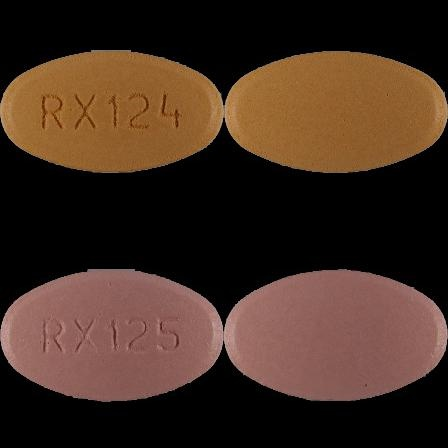51660-141: (0, 0, 224, 224)
